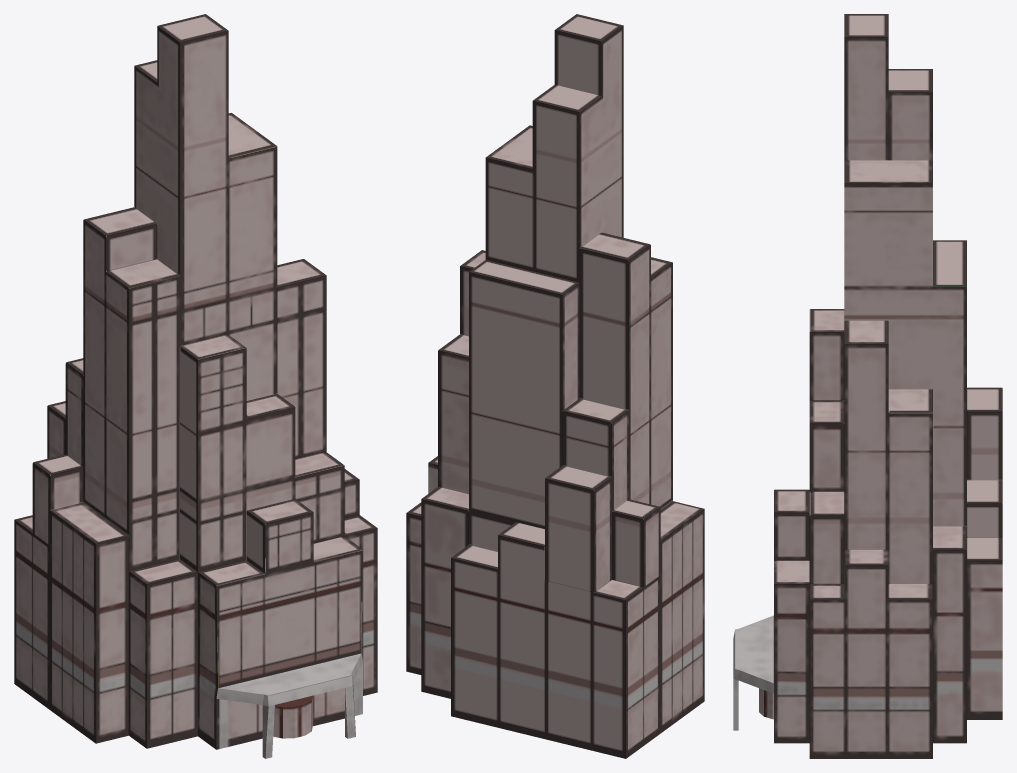
File: TaxBuilding.fbx
3 views of the same model, side by side, from view 1: azimuth 30°, elevation 25°; view 2: azimuth 150°, elevation 25°; view 3: azimuth 270°, elevation 25° (orthographic). The views are drawn at different scales.
Parts seen in each view (by area): view 1: cuboid, cylinder; view 2: cuboid; view 3: cuboid.
Part boxes in pixels (x1,y1,x2,y2): cuboid: (14, 14, 377, 758); cylinder: (273, 695, 312, 738); cuboid: (406, 14, 704, 758); cuboid: (733, 14, 1002, 758).
Bounding box in the file's own units: 100 × 247 × 91.25.
1 material, 1 textured.
